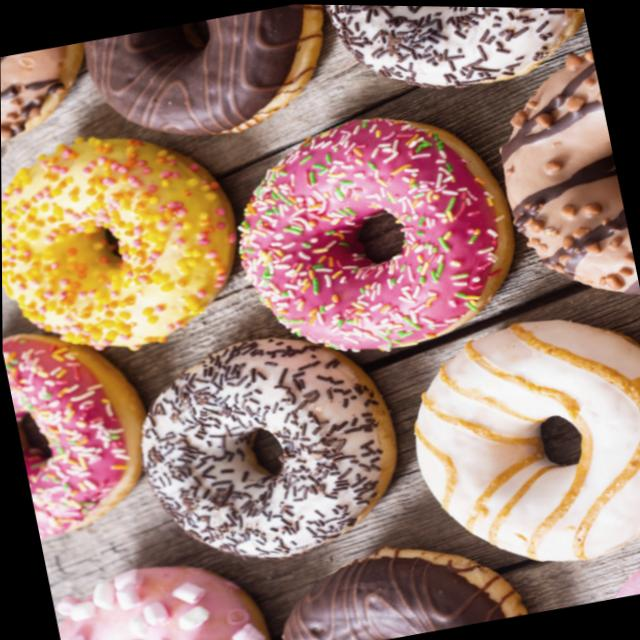donut: (213, 87, 535, 378), (123, 322, 421, 580), (394, 295, 640, 588), (1, 109, 263, 372), (76, 1, 356, 158), (2, 311, 164, 546), (257, 520, 530, 640), (325, 4, 596, 111), (48, 545, 274, 640)
